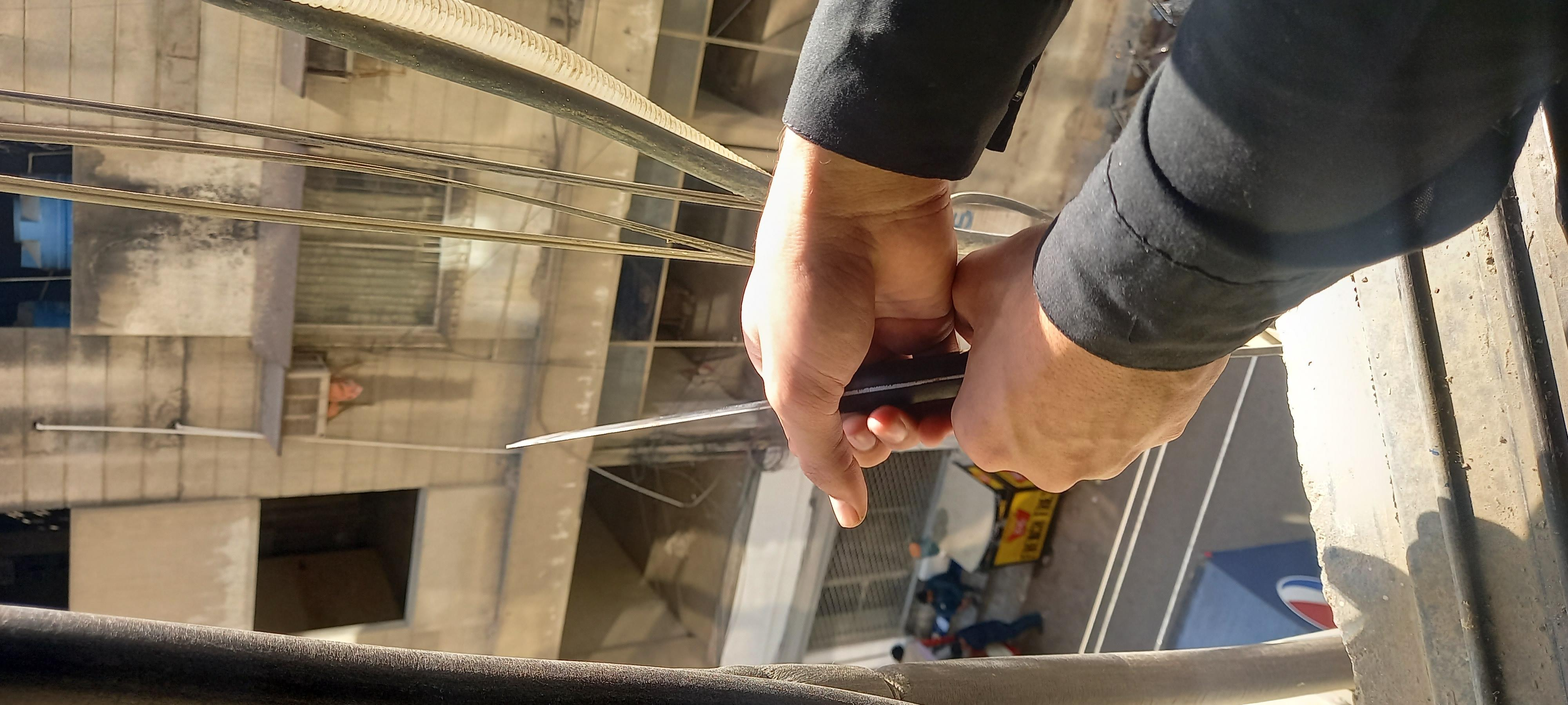knives: (534, 221, 803, 442)
